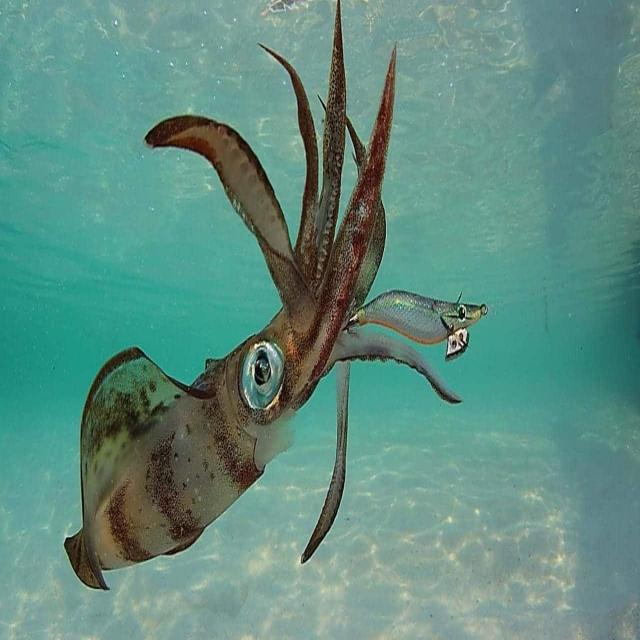SQUID: (60, 0, 490, 640)
